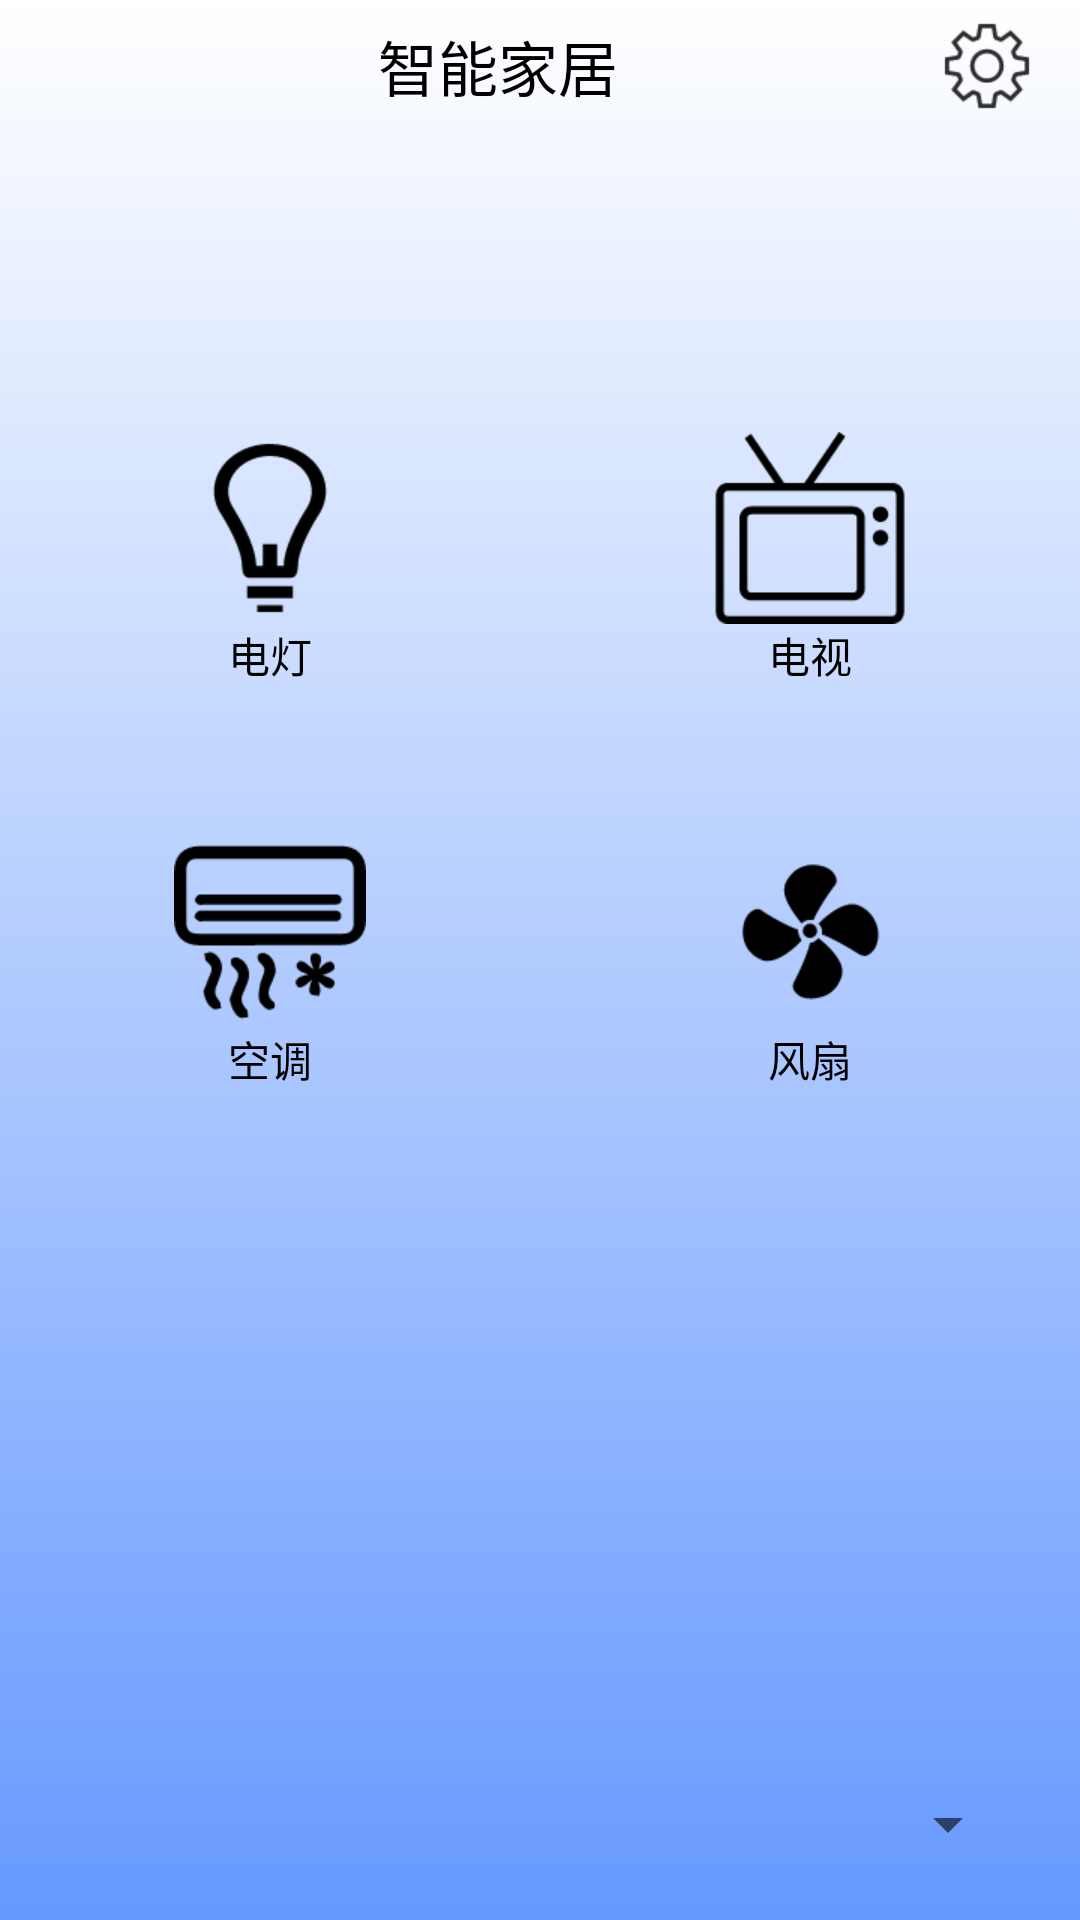

Icons on this 1080 x 1920 Android screen, each with its box as (x1, y1, x2, y2):
setting: (944, 23, 1030, 109)
